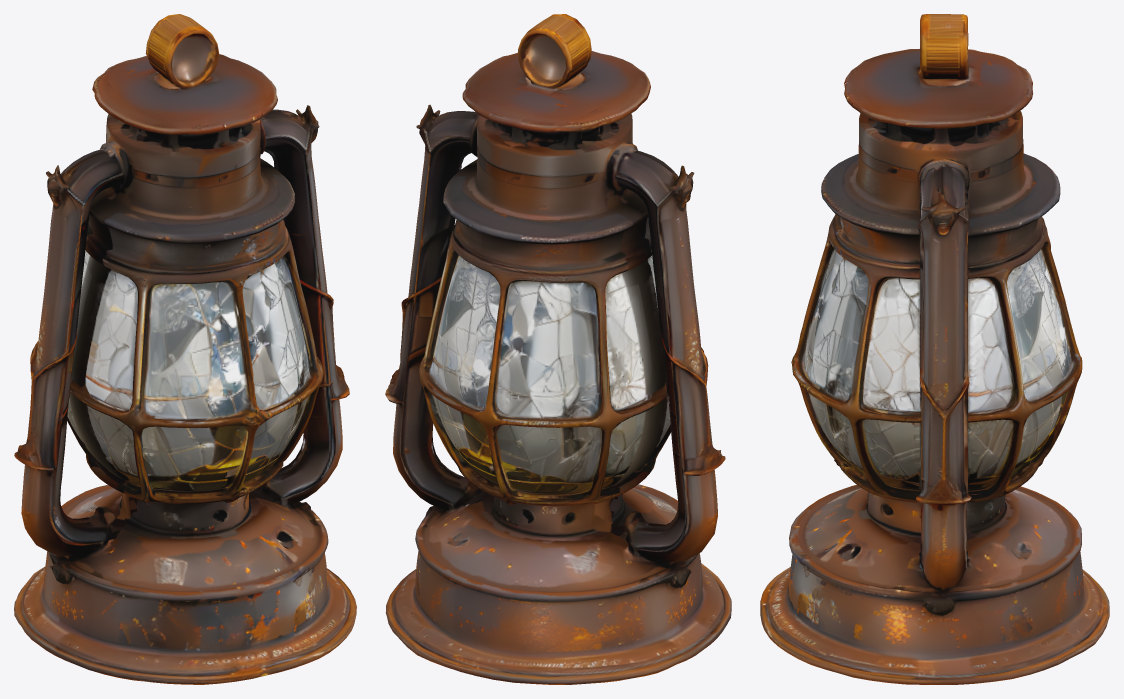
The picture shows the model from 3 angles, left to right: view 1: azimuth 30°, elevation 25°; view 2: azimuth 150°, elevation 25°; view 3: azimuth 270°, elevation 25°; orthographic projection.
Visible parts, largest first — view 1: model; view 2: model; view 3: model.
Boxes of the visible parts, <box> form: model: <box>14,14,356,684</box>; model: <box>385,14,731,684</box>; model: <box>760,14,1109,684</box>.
Size of the model in its own units: 1.03 by 1.79 by 0.9487.
Materials: 1 (1 with a texture image).
